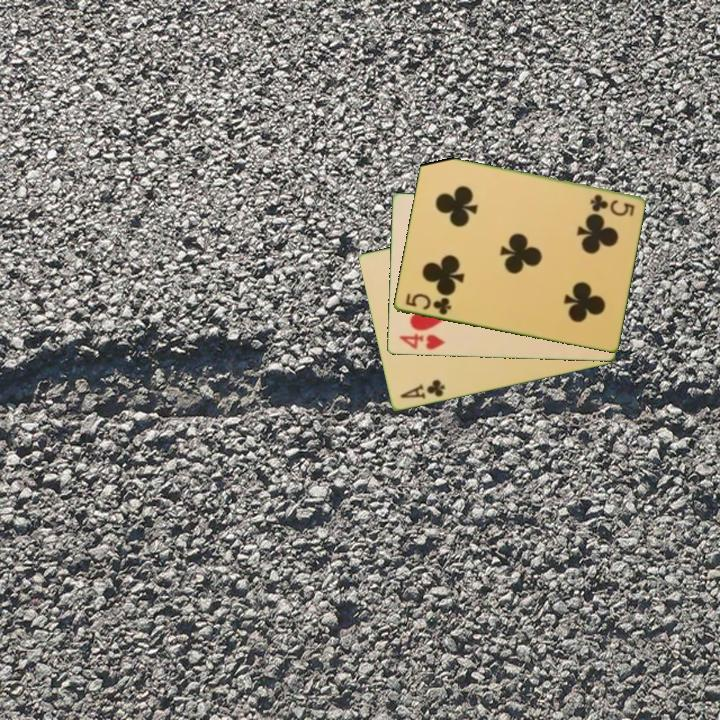4h: (395, 331, 447, 353)
5c: (401, 290, 454, 318), (586, 191, 637, 219)
Ac: (397, 376, 448, 402)
